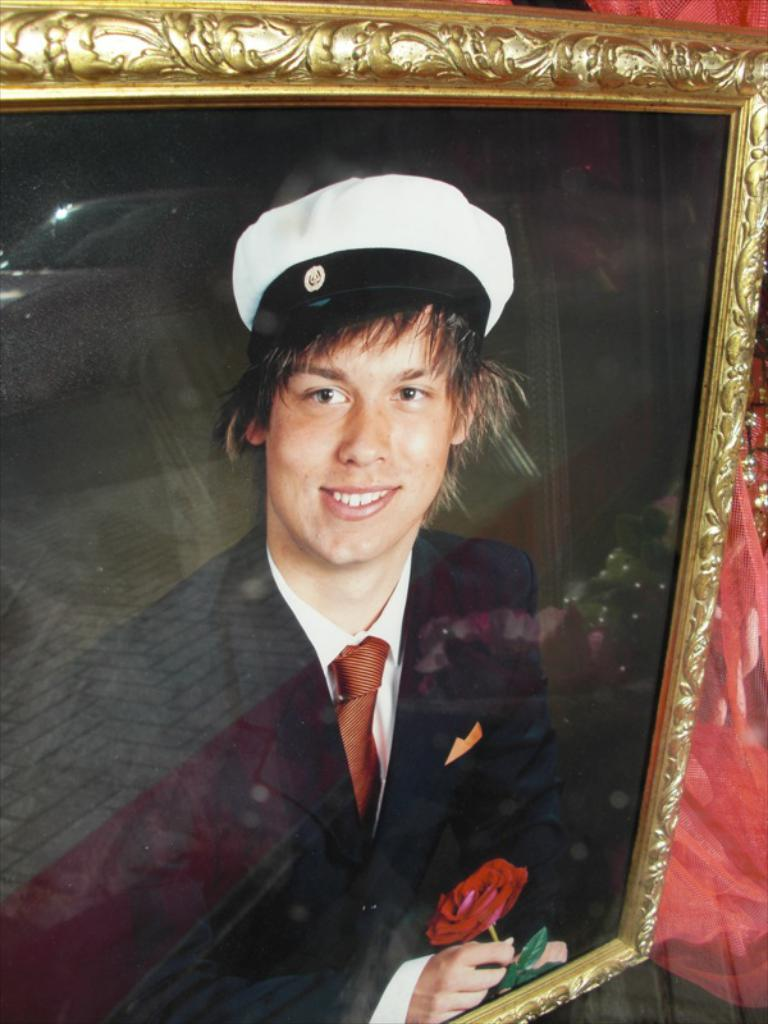Hat: (227, 171, 509, 354)
